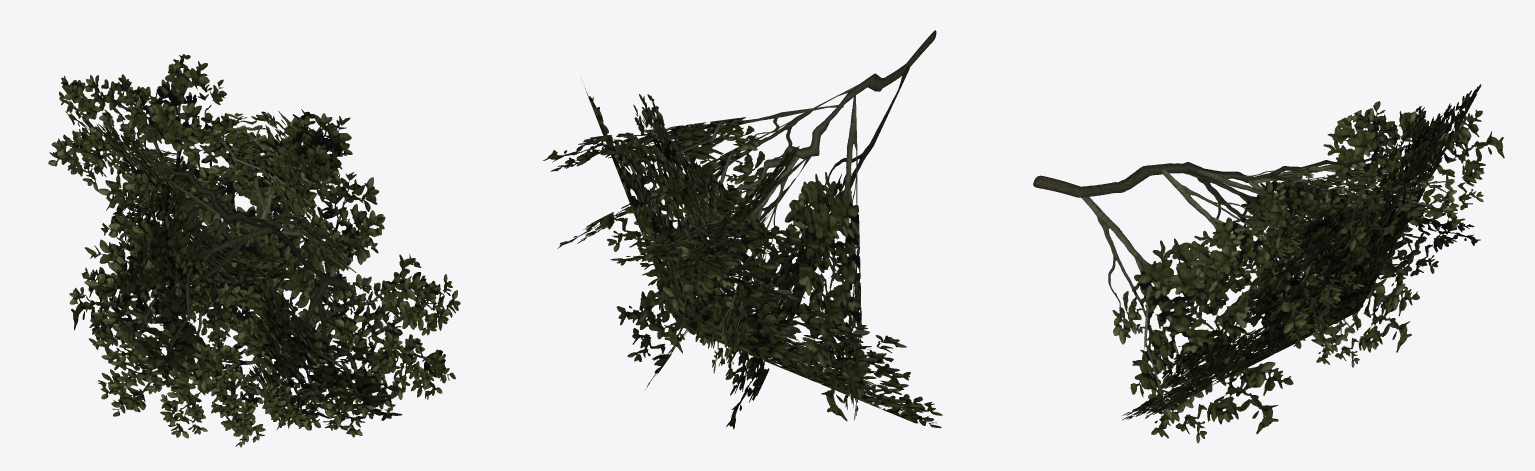
The model's file is MEP_Bush_02_b.fbx.
The picture shows the model from 3 angles, left to right: view 1: azimuth 30°, elevation 25°; view 2: azimuth 150°, elevation 25°; view 3: azimuth 270°, elevation 25°; orthographic projection. The views are drawn at different scales.
Parts seen in each view (by area): view 1: EP_Bush_02_b; view 2: EP_Bush_02_b; view 3: EP_Bush_02_b.
Boxes of the visible parts, <box> form: EP_Bush_02_b: <box>48,54,460,447</box>; EP_Bush_02_b: <box>543,30,942,429</box>; EP_Bush_02_b: <box>1033,84,1504,443</box>.
Bounding box in the file's own units: 3.88 × 4.04 × 4.87.
